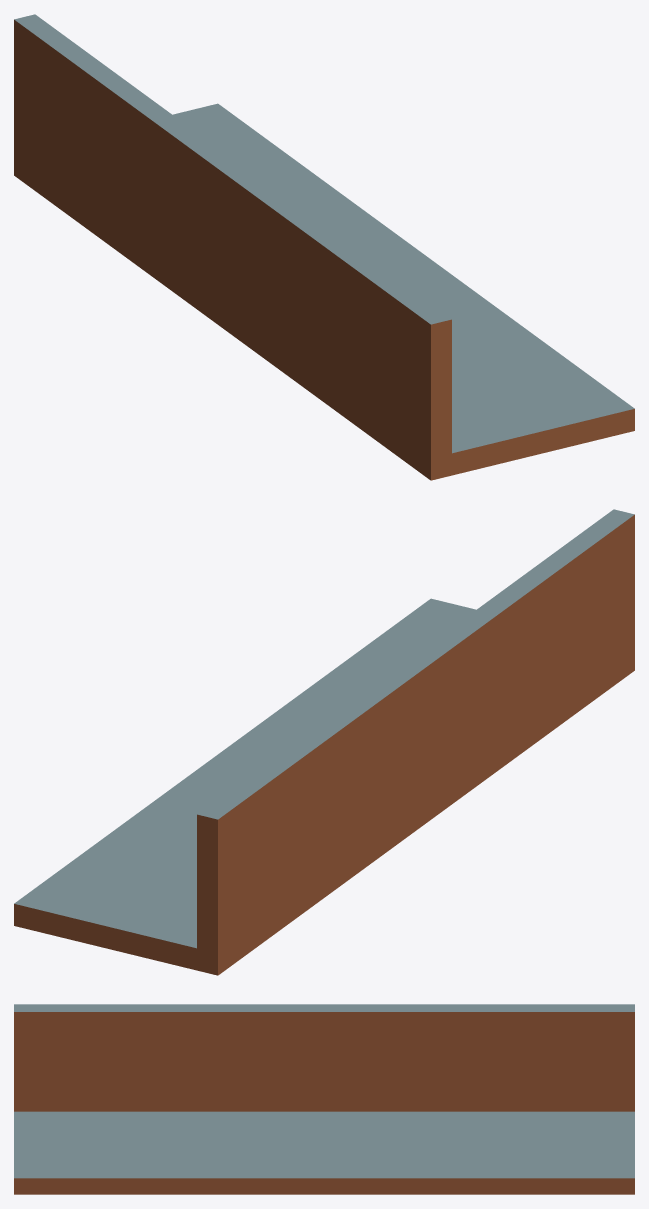
File: Steel_L_Angle.glb
3 renders of one model, top to bottom at view 1: azimuth 30°, elevation 25°; view 2: azimuth 150°, elevation 25°; view 3: azimuth 270°, elevation 25°, orthographic. The views are drawn at different scales.
Visible parts, largest first — view 1: Steel_L_Angle; view 2: Steel_L_Angle; view 3: Steel_L_Angle.
Part boxes in pixels (x1,y1,x2,y2): Steel_L_Angle: [14, 14, 634, 480]; Steel_L_Angle: [14, 509, 634, 975]; Steel_L_Angle: [14, 1004, 634, 1194].
Bounding box in the file's own units: 0.26 × 0.19 × 0.92.
